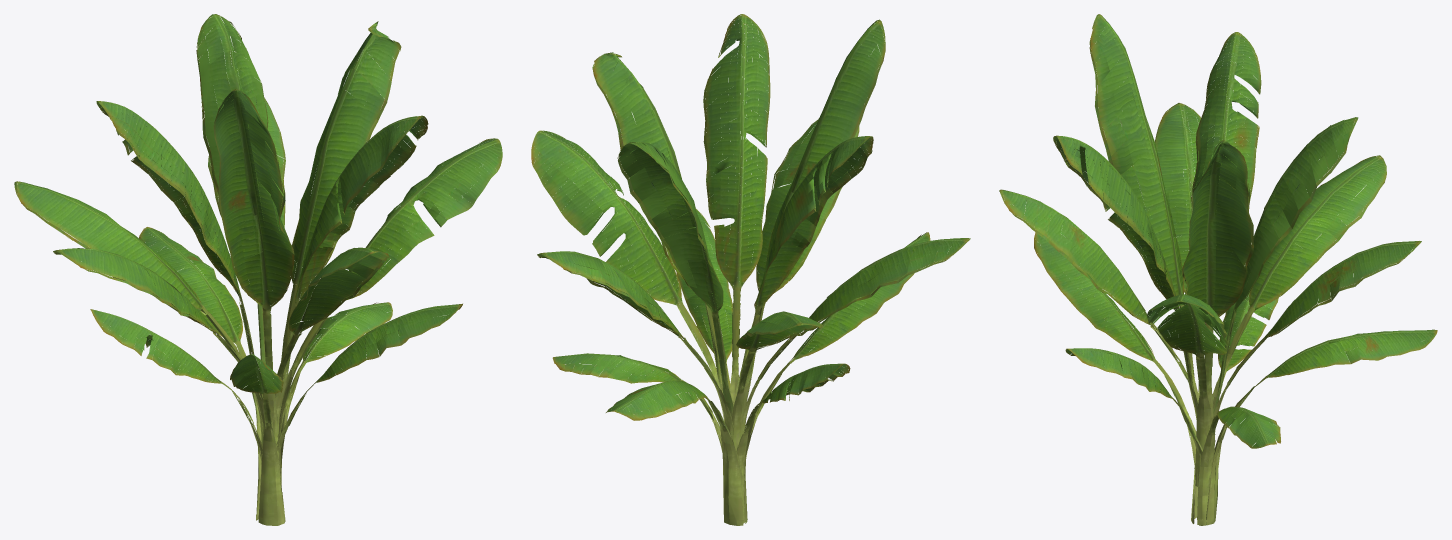
The model's file is banana_real.glb.
The picture shows the model from 3 angles, left to right: view 1: azimuth 30°, elevation 25°; view 2: azimuth 150°, elevation 25°; view 3: azimuth 270°, elevation 25°; orthographic projection. The views are drawn at different scales.
Parts seen in each view (by area): view 1: part0; view 2: part0; view 3: part0.
Boxes of the visible parts, x1,y1,x2,y2 form: part0: (14,14,502,525); part0: (531,14,970,525); part0: (999,14,1437,525).
Size of the model in its own units: 2.97 by 3.2 by 2.72.
Materials: 1 (1 with a texture image).
